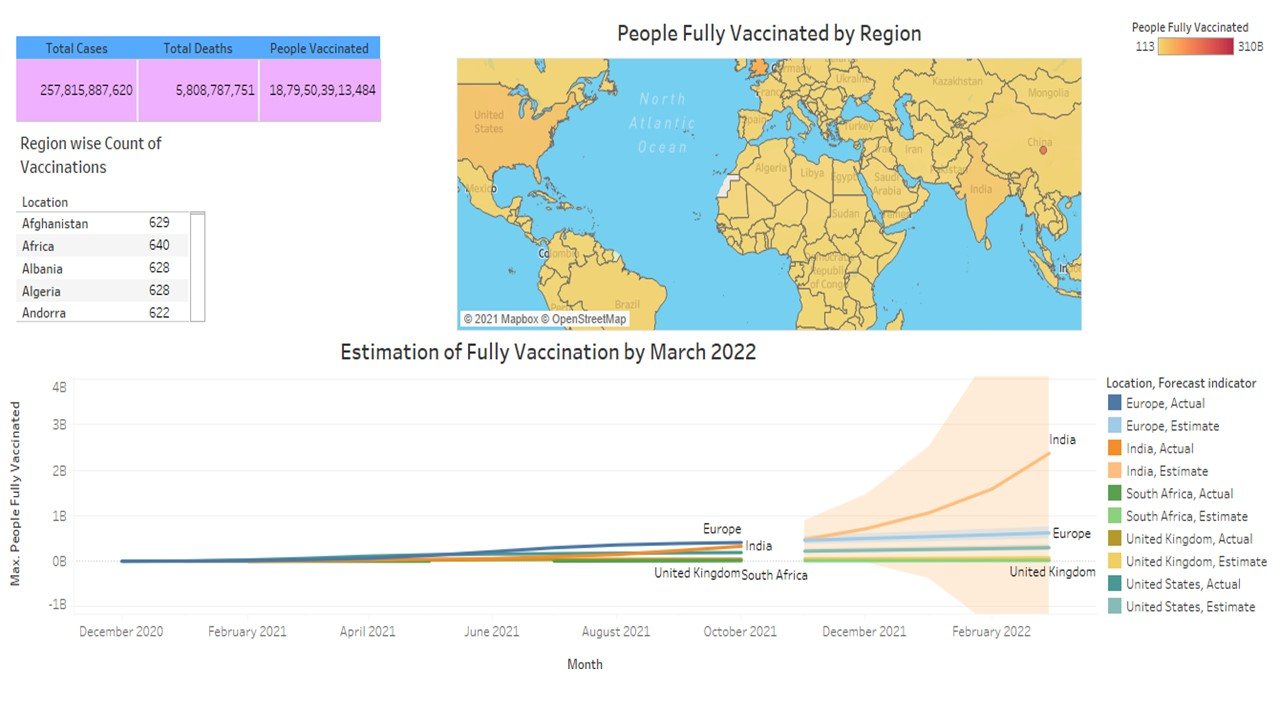

What the dashboard file says about the page in this screenshot:
{"tool":"tableau","page":{"name":"Dashboard 1","canvas":[1000,1000],"units":"permille","ordinal":0},"visuals":[{"type":"worksheet","title":"Sheet 3","mark":"Automatic","box":[356.9,13.5,488.9,481.4]},{"type":"legend","title":"Sheet 3","param":"[federated.0n711eq0uqf2ke1bo2dp40drfg9v].[sum:people_fully_vaccinated:qk]","box":[881.3,13.5,112.7,104.7]},{"type":"worksheet","title":"Sheet 1","mark":"Automatic","box":[12.4,28.7,338.4,163.8]},{"type":"worksheet","title":"Sheet 2","mark":"Automatic","rows":["location"],"box":[12.4,185.8,204.6,295.6]},{"type":"legend","title":"Sheet 4","param":"[federated.0n711eq0uqf2ke1bo2dp40drfg9v].[none:location:nk]\n[federated.0n711eq0u","box":[863.6,554.1,130.2,368.2]}]}

Visuals, with their boxes on the dashboard's canvas, which has no fixed pixel size, in thousandths of its width and height (x1, y1, x2, y2). These are canvas units, not pixel positions in the 1280x720 screenshot, which may show the page scaled, cropped or inside an application window:
"Sheet 3" worksheet: [357, 14, 846, 495]
"Sheet 3" legend: [881, 14, 994, 118]
"Sheet 1" worksheet: [12, 29, 351, 192]
"Sheet 2" worksheet: [12, 186, 217, 481]
"Sheet 4" legend: [864, 554, 994, 922]
